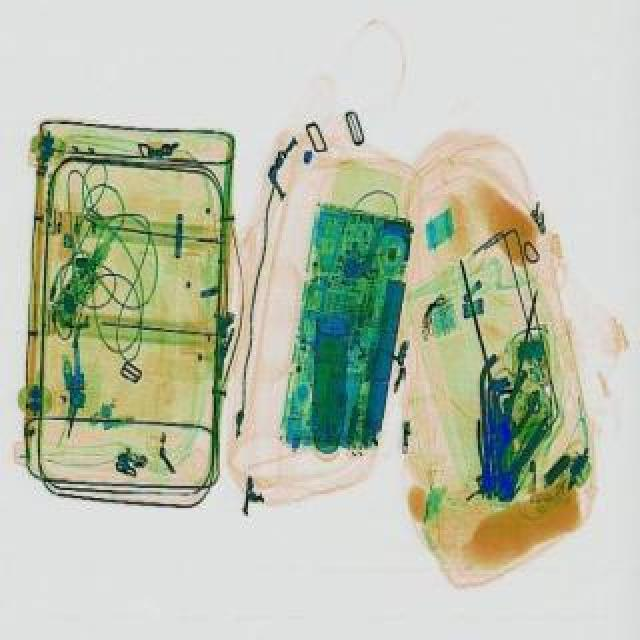scissors: (492, 420, 560, 510)
wrench: (484, 376, 548, 464)
